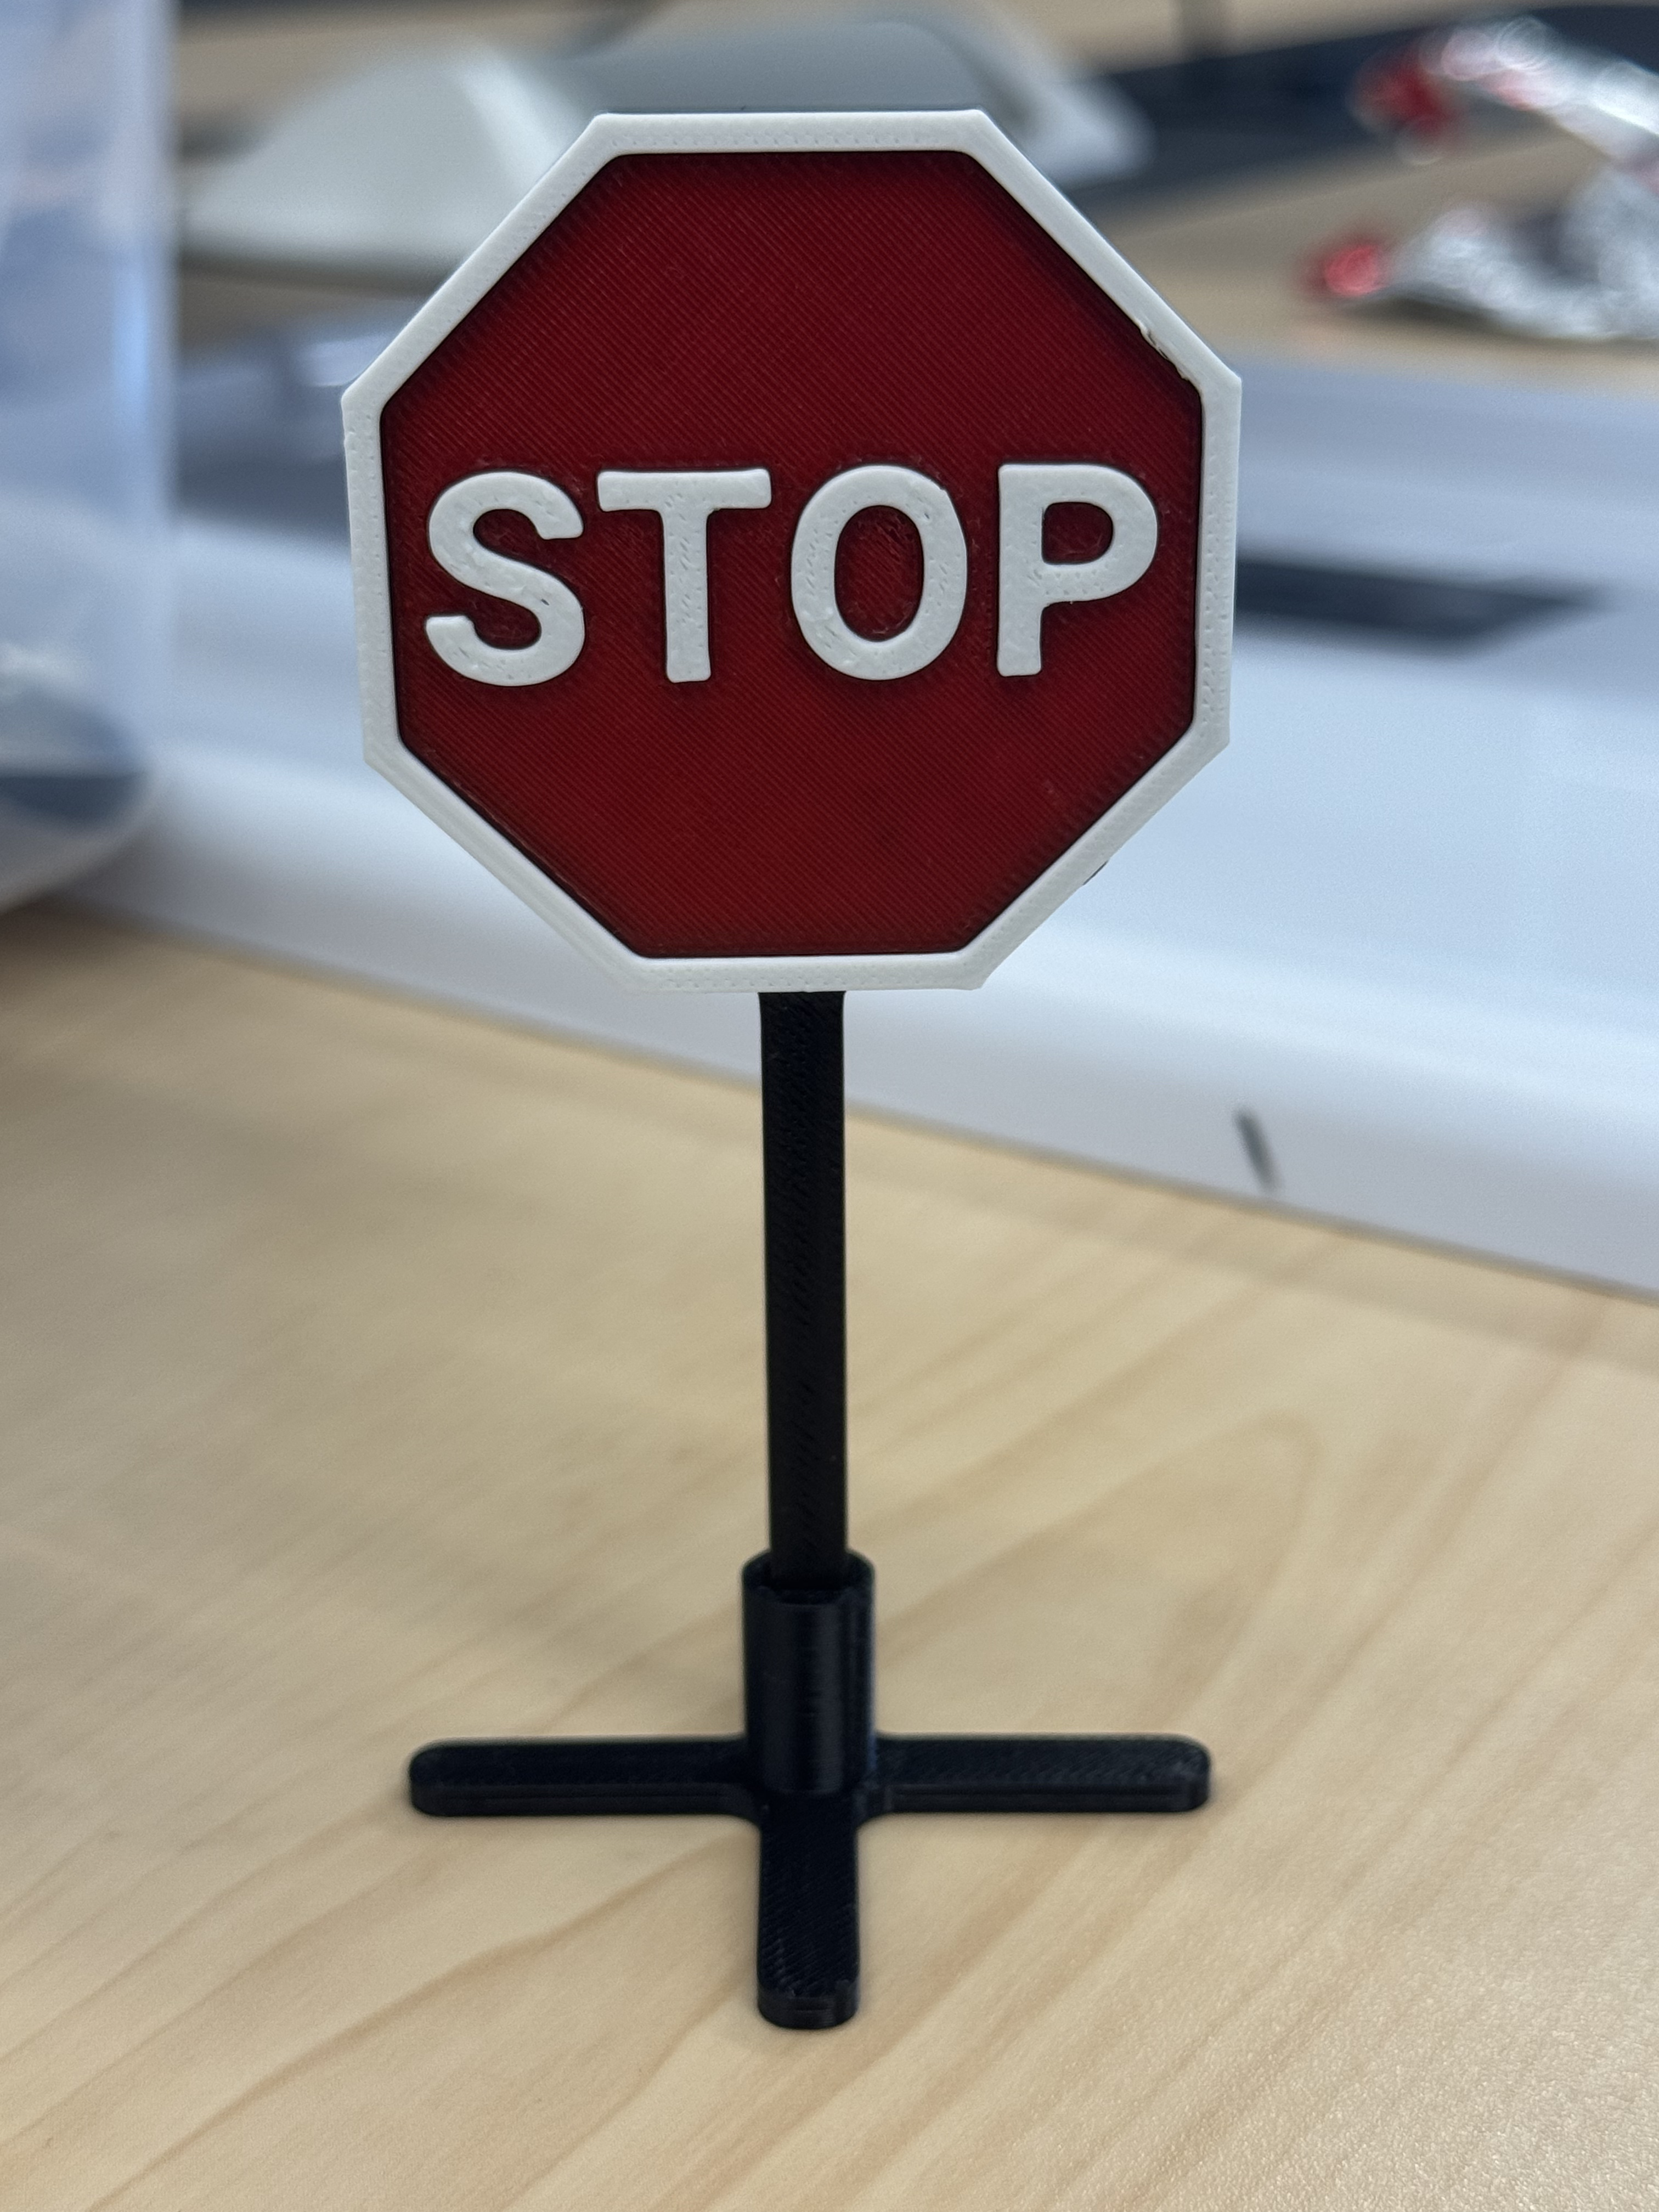sign_stop: (335, 105, 1249, 2043)
